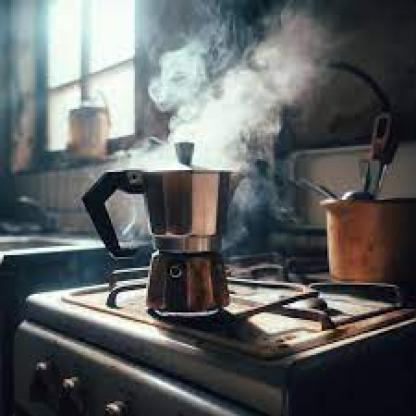smoke: (117, 0, 352, 197)
